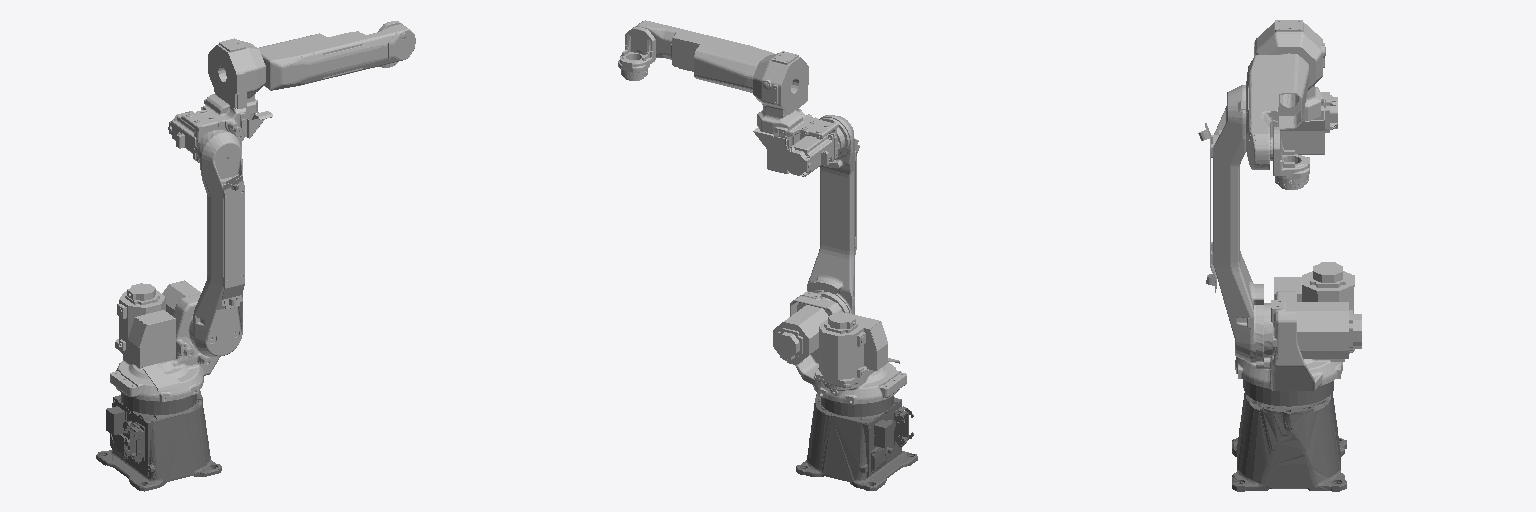
URDF robot description (arc100ic2):
<?xml version="1.0" encoding="utf-8"?>
<!-- This URDF was automatically created by SolidWorks to URDF Exporter! Originally created by [author] ([email redacted])
     Commit Version: 1.4.4-24-g24328f6  Build Version: 1.5.7084.36479
     For more information, please see http://wiki.ros.org/sw_urdf_exporter -->
<robot
  name="arc100ic2">
  <link
    name="base_link">
    <inertial>
      <origin
        xyz="0.0079258 5.3524E-05 0.12812"
        rpy="0 0 0" />
      <mass
        value="13.418" />
      <inertia
        ixx="0.13734"
        ixy="3.8873E-05"
        ixz="0.0035268"
        iyy="0.14138"
        iyz="0.00022692"
        izz="0.11173" />
    </inertial>
    <visual>
      <origin
        xyz="0 0 0"
        rpy="0 0 0" />
      <geometry>
        <mesh
          filename="package://arc100ic2/meshes/base_link.STL" />
      </geometry>
      <material
        name="">
        <color
          rgba="0.5 0.5 0.5 1" />
      </material>
    </visual>
    <collision>
      <origin
        xyz="0 0 0"
        rpy="0 0 0" />
      <geometry>
        <mesh
          filename="package://arc100ic2/meshes/base_link.STL" />
      </geometry>
    </collision>
  </link>
  <link
    name="link_1">
    <inertial>
      <origin
        xyz="0.0551280230274109 0.0445977839403992 0.119435059156477"
        rpy="0 0 0" />
      <mass
        value="9.89285795738343" />
      <inertia
        ixx="0.100633282408297"
        ixy="-0.000368613134367861"
        ixz="-0.0246579705447439"
        iyy="0.129854431598299"
        iyz="-0.019875246883235"
        izz="0.119289040637804" />
    </inertial>
    <visual>
      <origin
        xyz="0 0 0"
        rpy="0 0 0" />
      <geometry>
        <mesh
          filename="package://arc100ic2/meshes/link_1.STL" />
      </geometry>
      <material
        name="">
        <color
          rgba="0.752941176470588 0.752941176470588 0.752941176470588 1" />
      </material>
    </visual>
    <collision>
      <origin
        xyz="0 0 0"
        rpy="0 0 0" />
      <geometry>
        <mesh
          filename="package://arc100ic2/meshes/link_1.STL" />
      </geometry>
    </collision>
  </link>
  <joint
    name="joint_1"
    type="revolute">
    <origin
      xyz="0 0 0.27391"
      rpy="0 0 0" />
    <parent
      link="base_link" />
    <child
      link="link_1" />
    <axis
      xyz="0 0 1" />
    <limit
      lower="-3.1459"
      upper="3.1459"
      effort="200"
      velocity="4.0143" />
    <safety_controller
      soft_upper="2.96705"
      soft_lower="-2.96705"
      k_velocity="0" />
  </joint>
  <link
    name="link_2">
    <inertial>
      <origin
        xyz="-8.73093225378652E-06 -0.123167800919542 0.277706747778899"
        rpy="0 0 0" />
      <mass
        value="6.12717976196668" />
      <inertia
        ixx="0.329845249329456"
        ixy="-5.17483533396187E-06"
        ixz="1.61623101638262E-05"
        iyy="0.329101570613941"
        iyz="0.018431868349197"
        izz="0.0150953082819112" />
    </inertial>
    <visual>
      <origin
        xyz="0 0 0"
        rpy="0 0 0" />
      <geometry>
        <mesh
          filename="package://arc100ic2/meshes/link_2.STL" />
      </geometry>
      <material
        name="">
        <color
          rgba="0.752941176470588 0.752941176470588 0.752941176470588 1" />
      </material>
    </visual>
    <collision>
      <origin
        xyz="0 0 0"
        rpy="0 0 0" />
      <geometry>
        <mesh
          filename="package://arc100ic2/meshes/link_2.STL" />
      </geometry>
    </collision>
  </link>
  <joint
    name="joint_2"
    type="revolute">
    <origin
      xyz="0.15 0 0.1760907567544"
      rpy="0 0 0" />
    <parent
      link="link_1" />
    <child
      link="link_2" />
    <axis
      xyz="0 1 0" />
    <limit
      lower="-2.1816"
      upper="2.1816"
      effort="250"
      velocity="3.9269" />
    <safety_controller
      soft_upper="2.1816"
      soft_lower="-2.1816"
      k_velocity="0" />
  </joint>
  <link
    name="link_3">
    <inertial>
      <origin
        xyz="0.0821370737229578 0.00767983058773422 0.103368925323317"
        rpy="0 0 0" />
      <mass
        value="5.31917369397232" />
      <inertia
        ixx="0.0609777481639329"
        ixy="0.00223586291363752"
        ixz="-0.0207224581595927"
        iyy="0.0689825037841933"
        iyz="0.00403767572663753"
        izz="0.0315128650396838" />
    </inertial>
    <visual>
      <origin
        xyz="0 0 0"
        rpy="0 0 0" />
      <geometry>
        <mesh
          filename="package://arc100ic2/meshes/link_3.STL" />
      </geometry>
      <material
        name="">
        <color
          rgba="0.752941176470588 0.752941176470588 0.752941176470588 1" />
      </material>
    </visual>
    <collision>
      <origin
        xyz="0 0 0"
        rpy="0 0 0" />
      <geometry>
        <mesh
          filename="package://arc100ic2/meshes/link_3.STL" />
      </geometry>
    </collision>
  </link>
  <joint
    name="joint_3"
    type="revolute">
    <origin
      xyz="0 0 0.6"
      rpy="0 0 0" />
    <parent
      link="link_2" />
    <child
      link="link_3" />
    <axis
      xyz="0 1 0" />
    <limit
      lower="-3.9008"
      upper="3.9008"
      effort="180"
      velocity="4.0142" />
    <safety_controller
      soft_upper="3.9008"
      soft_lower="-3.9008"
      k_velocity="0" />
  </joint>
  <link
    name="link_4">
    <inertial>
      <origin
        xyz="0.199267860769998 -0.0521797017740084 -2.3405286299738E-05"
        rpy="0 0 0" />
      <mass
        value="4.14127007626448" />
      <inertia
        ixx="0.00902167410693338"
        ixy="0.00890664053379675"
        ixz="1.19402360988763E-06"
        iyy="0.083370457547304"
        iyz="-3.84292918960806E-06"
        izz="0.0854423327562984" />
    </inertial>
    <visual>
      <origin
        xyz="0 0 0"
        rpy="0 0 0" />
      <geometry>
        <mesh
          filename="package://arc100ic2/meshes/link_4.STL" />
      </geometry>
      <material
        name="">
        <color
          rgba="0.752941176470588 0.752941176470588 0.752941176470588 1" />
      </material>
    </visual>
    <collision>
      <origin
        xyz="0 0 0"
        rpy="0 0 0" />
      <geometry>
        <mesh
          filename="package://arc100ic2/meshes/link_4.STL" />
      </geometry>
    </collision>
  </link>
  <joint
    name="joint_4"
    type="revolute">
    <origin
      xyz="0.19195 0 0.2"
      rpy="0 0 0" />
    <parent
      link="link_3" />
    <child
      link="link_4" />
    <axis
      xyz="1 0 0" />
    <limit
      lower="-3.3161"
      upper="3.3161"
      effort="120"
      velocity="7.5049" />
    <safety_controller
      soft_upper="3.3161"
      soft_lower="-3.3161"
      k_velocity="0" />
  </joint>
  <link
    name="link_5">
    <inertial>
      <origin
        xyz="-0.16754486328264 0.14663289585508 -0.795123572030433"
        rpy="0 0 0" />
      <mass
        value="38.9158047740591" />
      <inertia
        ixx="5.54492781272747"
        ixy="-0.305717777946462"
        ixz="-1.29045363152984"
        iyy="5.20065790645529"
        iyz="-1.01808663536119"
        izz="1.583956101465" />
    </inertial>
    <visual>
      <origin
        xyz="0 0 0"
        rpy="0 0 0" />
      <geometry>
        <mesh
          filename="package://arc100ic2/meshes/link_5.STL" />
      </geometry>
      <material
        name="">
        <color
          rgba="0.752941176470588 0.752941176470588 0.752941176470588 1" />
      </material>
    </visual>
    <collision>
      <origin
        xyz="0 0 0"
        rpy="0 0 0" />
      <geometry>
        <mesh
          filename="package://arc100ic2/meshes/link_5.STL" />
      </geometry>
    </collision>
  </link>
  <joint
    name="joint_5"
    type="revolute">
    <origin
      xyz="0.4508 0 0"
      rpy="-1.57079 0 -1.5708" />
    <parent
      link="link_4" />
    <child
      link="link_5" />
    <axis
      xyz="1 0 0" />
    <limit
      lower="-3.3161"
      upper="3.3161"
      effort="100"
      velocity="7.5049" />
    <safety_controller
      soft_upper="2.4434"
      soft_lower="-2.4434"
      k_velocity="0" />
  </joint>
  <link
    name="link_6">
    <inertial>
      <origin
        xyz="-0.000132914747531077 -4.08006961549745E-15 0.00424266925821284"
        rpy="0 0 0" />
      <mass
        value="0.0169439097865241" />
      <inertia
        ixx="7.8016469323529E-06"
        ixy="-2.11758236813575E-21"
        ixz="9.56751531575449E-09"
        iyy="7.73828892188829E-06"
        iyz="3.25578289100872E-21"
        izz="1.50870060954925E-05" />
    </inertial>
    <visual>
      <origin
        xyz="0 0 0"
        rpy="0 0 0" />
      <geometry>
        <mesh
          filename="package://arc100ic2/meshes/link_6.STL" />
      </geometry>
      <material
        name="">
        <color
          rgba="0.752941176470588 0.752941176470588 0.752941176470588 1" />
      </material>
    </visual>
    <collision>
      <origin
        xyz="0 0 0"
        rpy="0 0 0" />
      <geometry>
        <mesh
          filename="package://arc100ic2/meshes/link_6.STL" />
      </geometry>
    </collision>
  </link>
  <joint
    name="joint_6"
    type="revolute">
    <origin
      xyz="-0.006 0.088303 0"
      rpy="-1.5708 0 0" />
    <parent
      link="link_5" />
    <child
      link="link_6" />
    <axis
      xyz="0 0 1" />
    <limit
      lower="-6.283"
      upper="6.283"
      effort="100"
      velocity="10.996" />
    <safety_controller
      soft_upper="4.7138"
      soft_lower="-4.7138"
      k_velocity="0" />
  </joint>
</robot>

--- Render facts (derived) ---
Views: 3 orthographic renders of the robot side by side, from view 1: azimuth 30°, elevation 25°; view 2: azimuth 150°, elevation 25°; view 3: azimuth 270°, elevation 25°.
Robot: arc100ic2 — 7 links, 6 joints (6 revolute); root link base_link; default pose: all joints at 0.
Links seen in each view (by area): view 1: link_2, link_1, base_link, link_4, link_3; view 2: link_1, base_link, link_3, link_2, link_4, link_5; view 3: base_link, link_1, link_2, link_4, link_3, link_5.
Boxes of the visible links, x1,y1,x2,y2 form: link_2: [189, 130, 244, 356]; link_1: [110, 280, 220, 402]; base_link: [96, 390, 221, 491]; link_4: [258, 24, 415, 90]; link_3: [168, 38, 272, 162]; link_1: [773, 291, 906, 404]; base_link: [796, 393, 917, 490]; link_3: [753, 51, 839, 176]; link_2: [807, 115, 859, 314]; link_4: [636, 20, 773, 92]; link_5: [618, 26, 655, 78]; base_link: [1232, 380, 1346, 491]; link_1: [1235, 262, 1361, 390]; link_2: [1198, 85, 1272, 362]; link_4: [1246, 53, 1308, 169]; link_3: [1238, 20, 1337, 154]; link_5: [1270, 127, 1309, 187].
Size in the robot's own frame: 0.9895 by 0.4075 by 1.34 metres.
7 mesh visuals loaded from 7 distinct referenced files (7 binary STL).